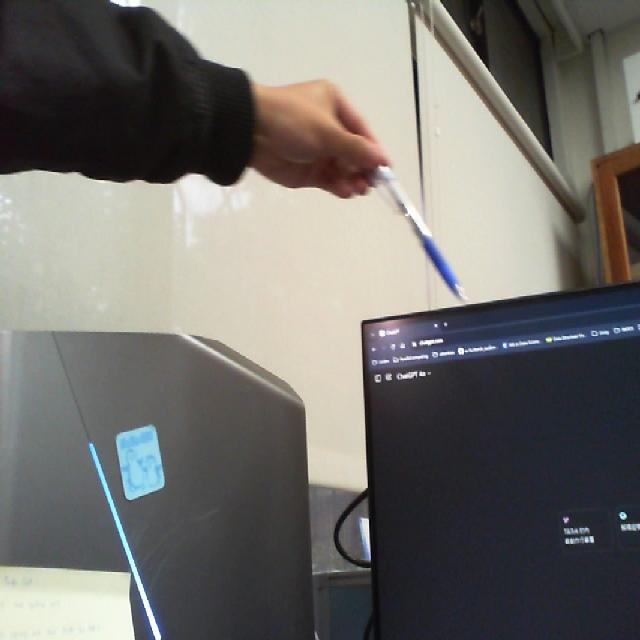Pen: (347, 113, 475, 309)
